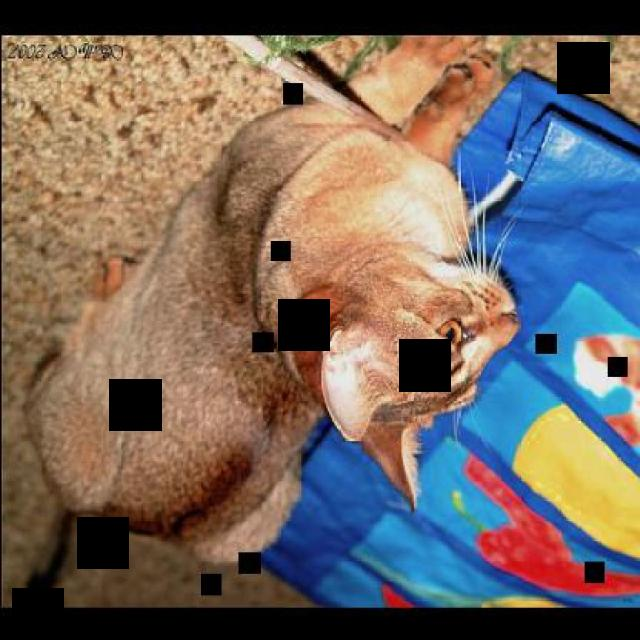unauthorized: (23, 46, 522, 574)
